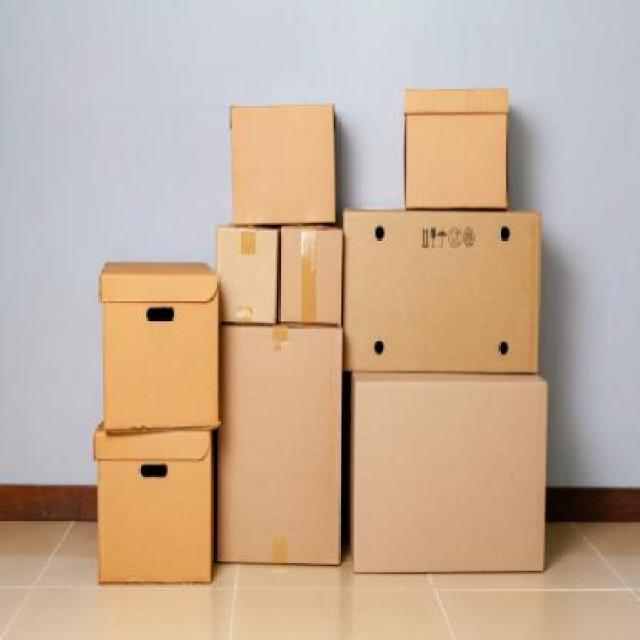box: (339, 370, 548, 574), (346, 200, 536, 370), (221, 324, 339, 568), (96, 260, 222, 426), (92, 426, 214, 582), (402, 86, 511, 208), (230, 104, 332, 228), (278, 222, 344, 330), (216, 227, 278, 322)
